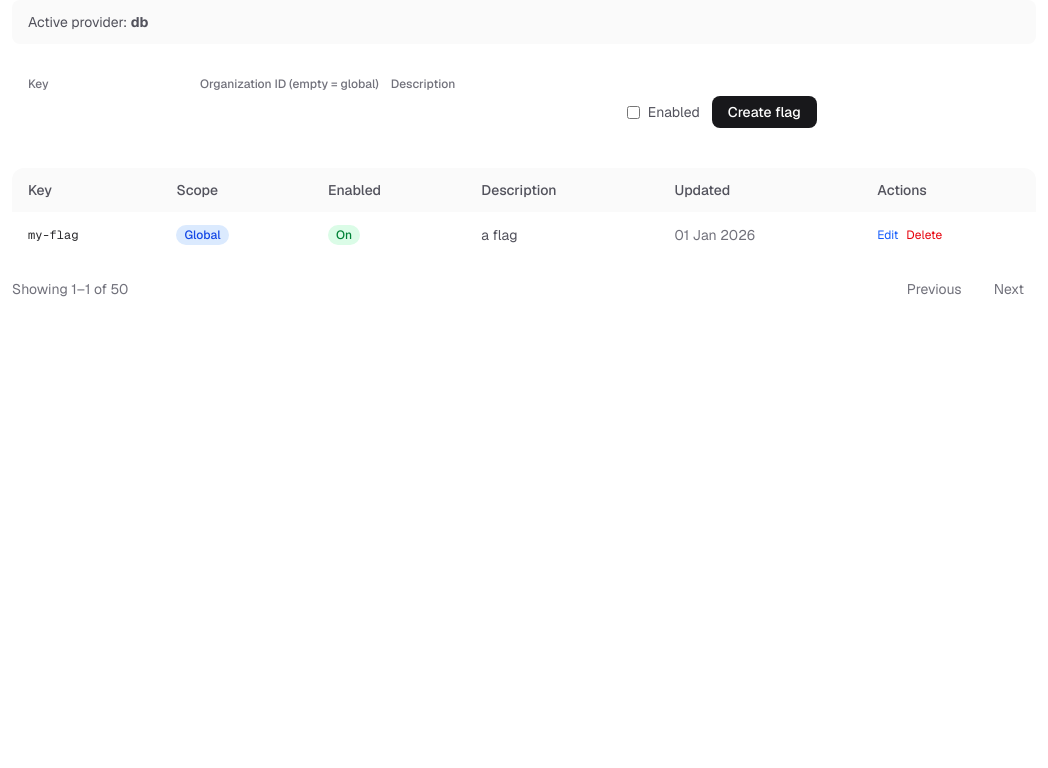
Test: FeatureFlagsClient › pagination › auto-corrects to offset 0 when the current page falls out of range after a shrink
The image size is (1048, 768).
Expected: the text "my-flag" is shown, [12,212,160,257]
Click the button "Next": (1009, 289) [982,273,1036,305]
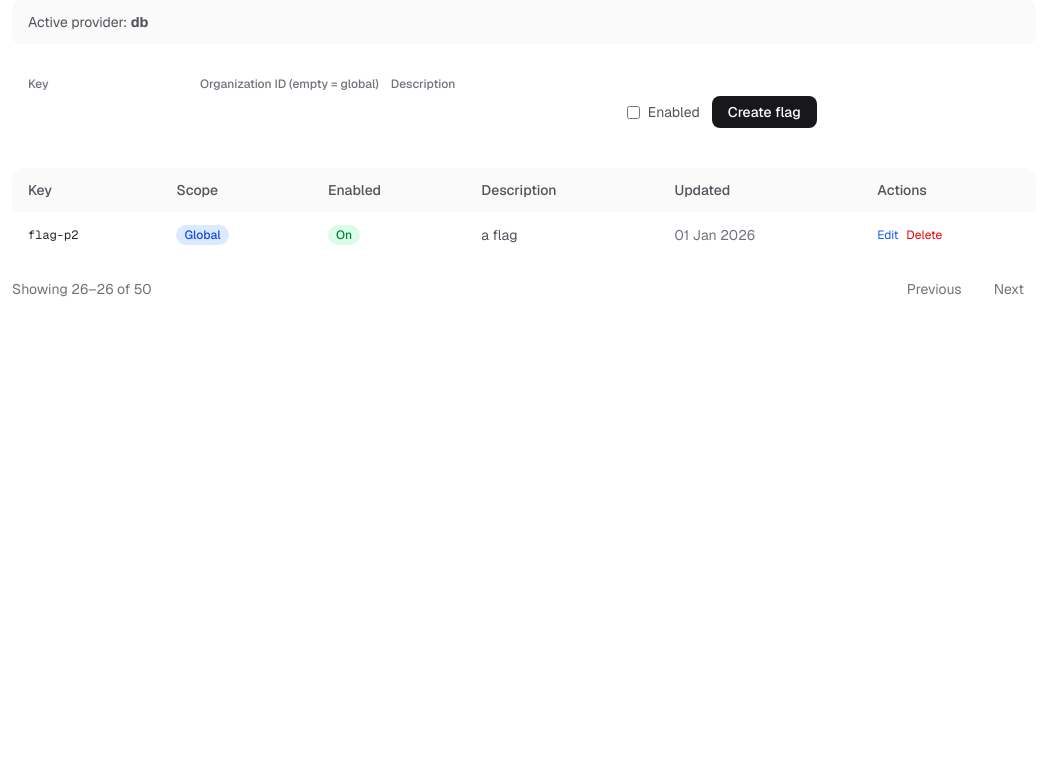
Now the text "flag-p2" is shown, box [12,212,160,257]
Click the button "Delete": (924, 234) [906,226,942,242]
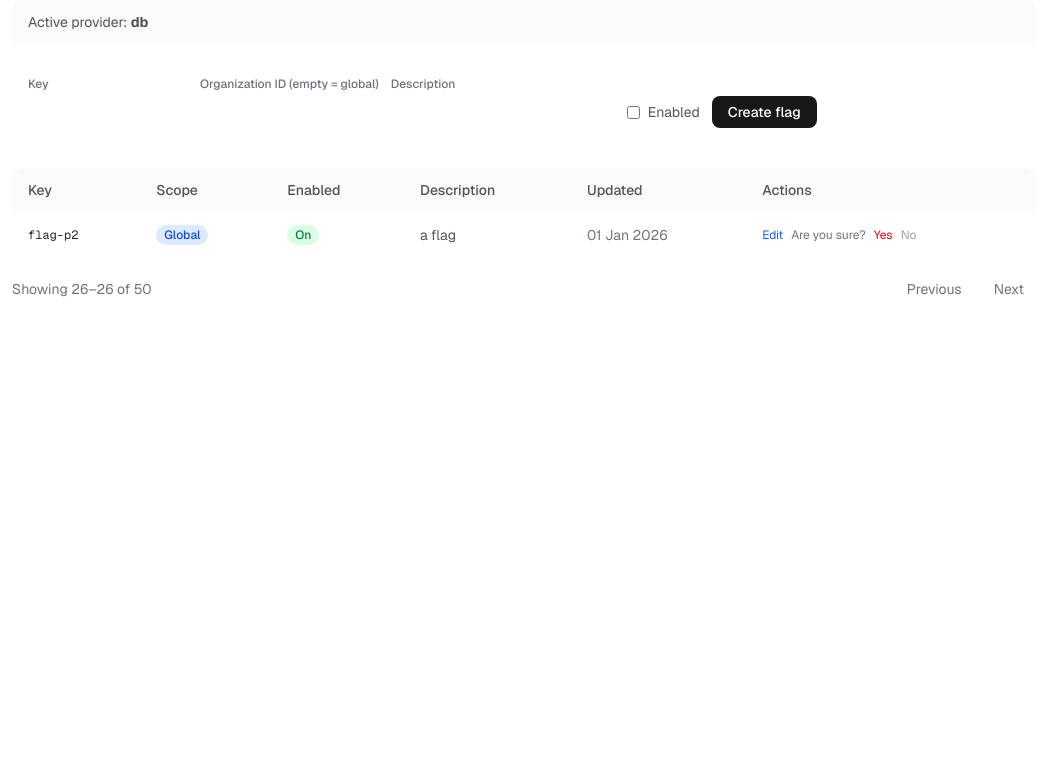
Click the button "Yes": (883, 234) [874,226,893,242]
(page scrolled)
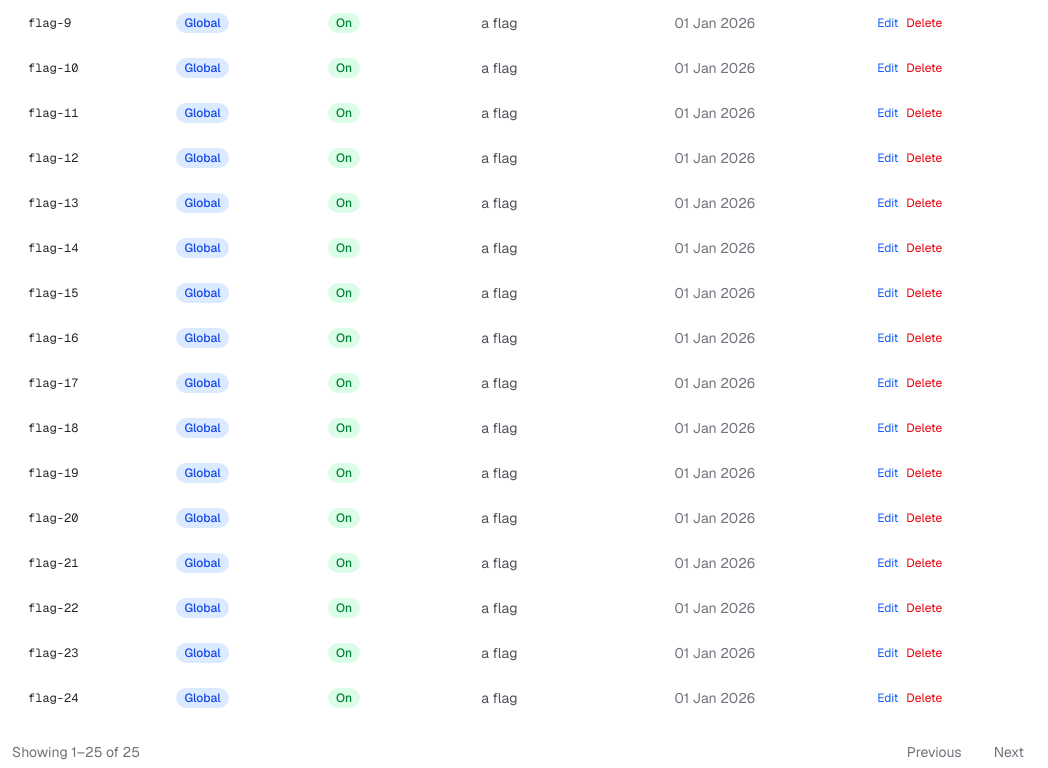
Now the text "Showing 1–25 of 25" is shown, box [12,742,140,762]
